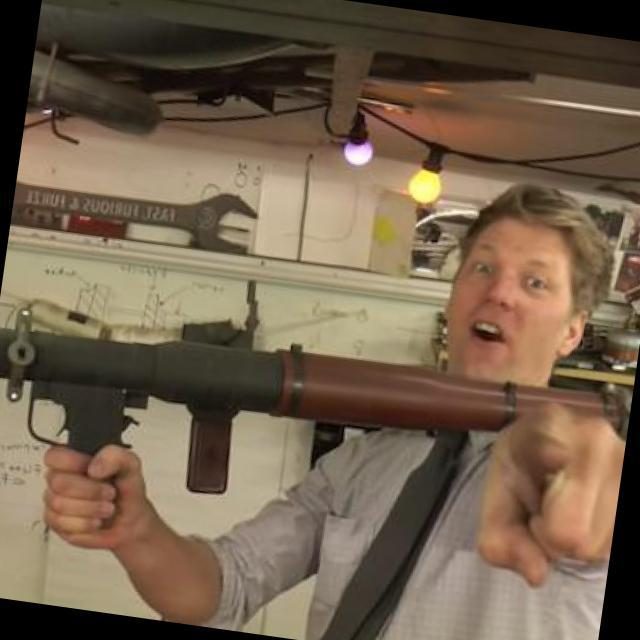rocket: (0, 304, 537, 533)
